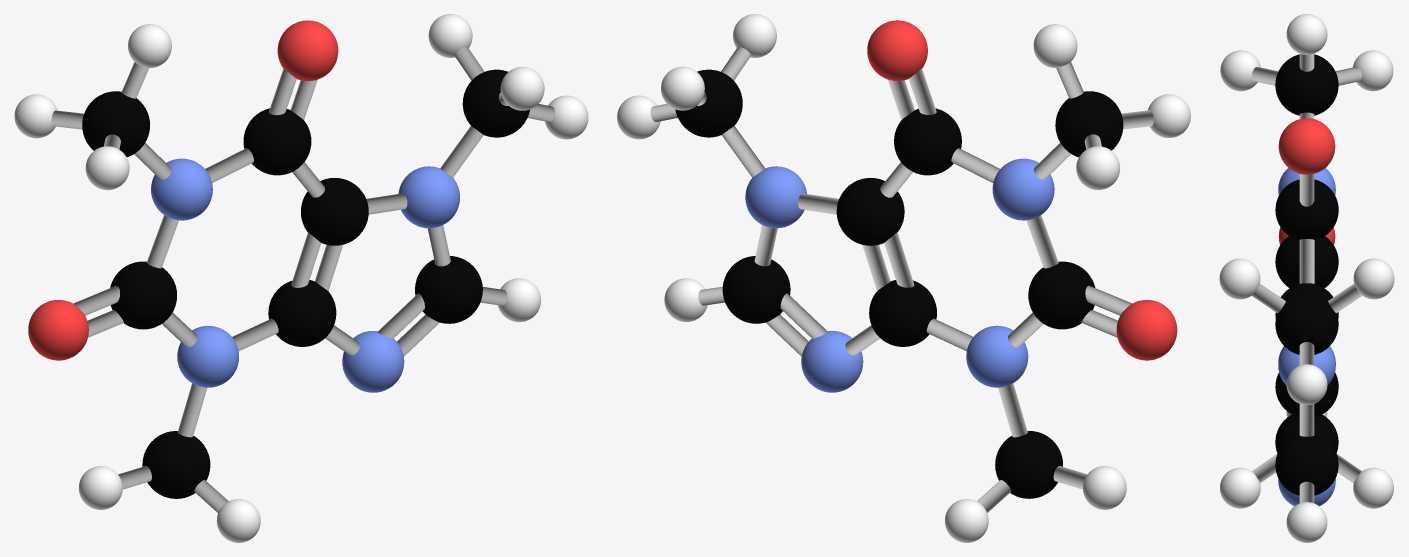
File: template.gltf
3 views of the same model, side by side, from view 1: azimuth 30°, elevation 25°; view 2: azimuth 150°, elevation 25°; view 3: azimuth 270°, elevation 25° (orthographic). The views are drawn at different scales.
Visible parts, largest first — view 1: MolView.mol; view 2: MolView.mol; view 3: MolView.mol.
Boxes of the visible parts, left/top/right/bottom form: MolView.mol: left=14, top=14, right=588, bottom=542; MolView.mol: left=617, top=14, right=1190, bottom=542; MolView.mol: left=1219, top=14, right=1394, bottom=542.
Size of the model in its own units: 7.98 by 6.91 by 2.35.
